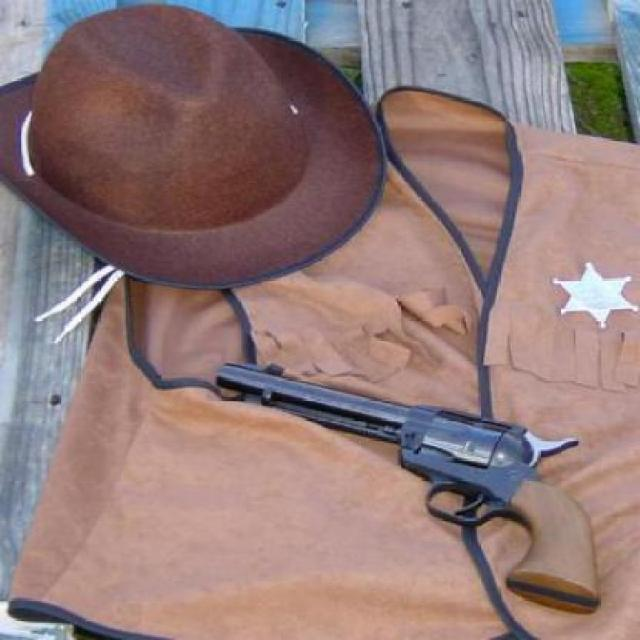gun: (216, 358, 604, 614)
